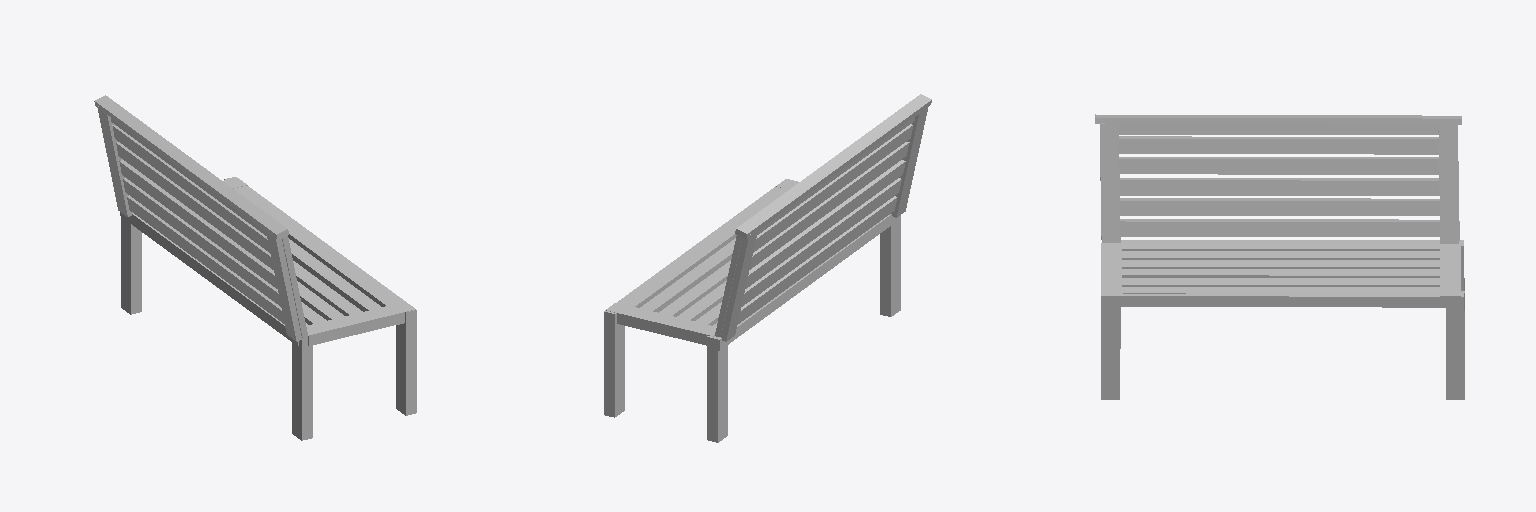
The model's file is Bench.obj.
The picture shows the model from 3 angles: view 1: azimuth 30°, elevation 25°; view 2: azimuth 150°, elevation 25°; view 3: azimuth 270°, elevation 25°; orthographic projection.
Parts seen in each view (by area): view 1: Cube_082; view 2: Cube_082; view 3: Cube_082.
Part boxes in pixels (x1,y1,x2,y2): Cube_082: (94,95,416,440); Cube_082: (604,94,931,442); Cube_082: (1095,114,1464,399).
Size of the model in its own units: 10.53 by 15.27 by 23.43.